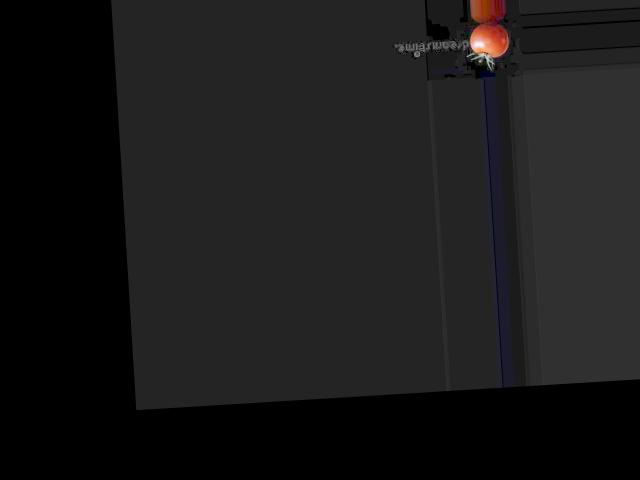tomato: (468, 22, 509, 58)
